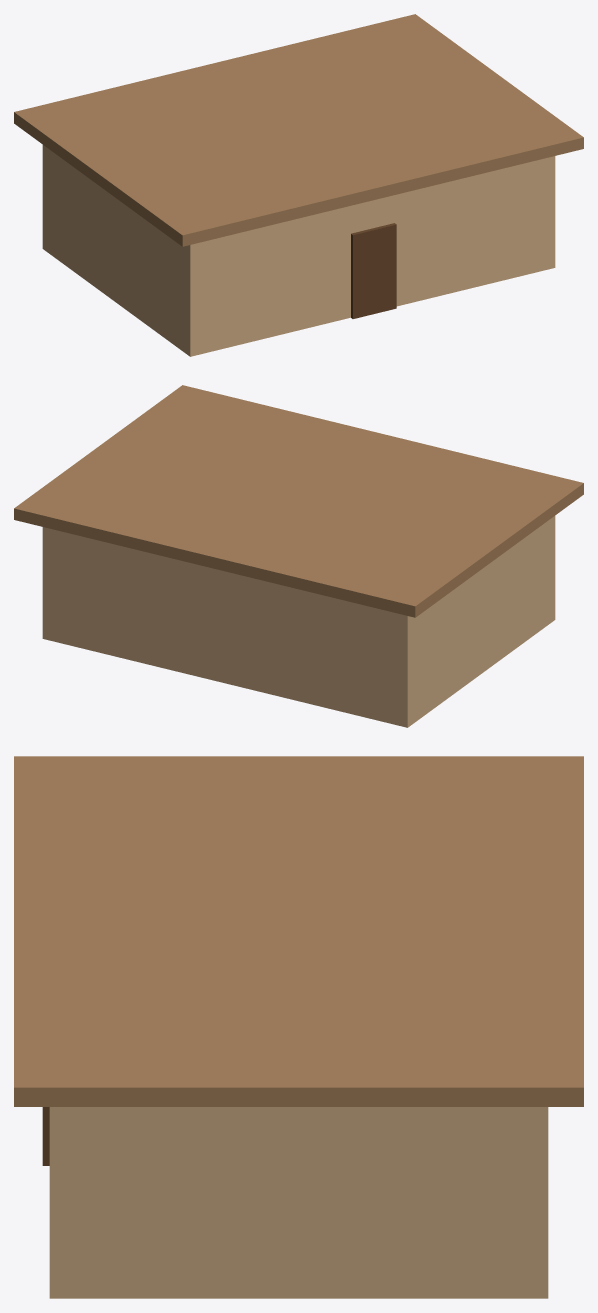
File: adobe_house_wide.glb
3 views of the same model, one above another, from view 1: azimuth 30°, elevation 25°; view 2: azimuth 150°, elevation 25°; view 3: azimuth 270°, elevation 25° (orthographic). The views are drawn at different scales.
Parts seen in each view (by area): view 1: Roof, Walls, Door; view 2: Roof, Walls; view 3: Roof, Walls.
Part boxes in pixels (x1=…): Roof: x1=14, y1=14, x2=583, y2=246; Walls: x1=42, y1=145, x2=555, y2=356; Door: x1=351, y1=223, x2=396, y2=318; Roof: x1=14, y1=385, x2=583, y2=617; Walls: x1=42, y1=516, x2=555, y2=727; Roof: x1=14, y1=756, x2=583, y2=1106; Walls: x1=49, y1=1107, x2=548, y2=1298.
Bounding box in the file's own units: 11 × 3.5 × 8.
